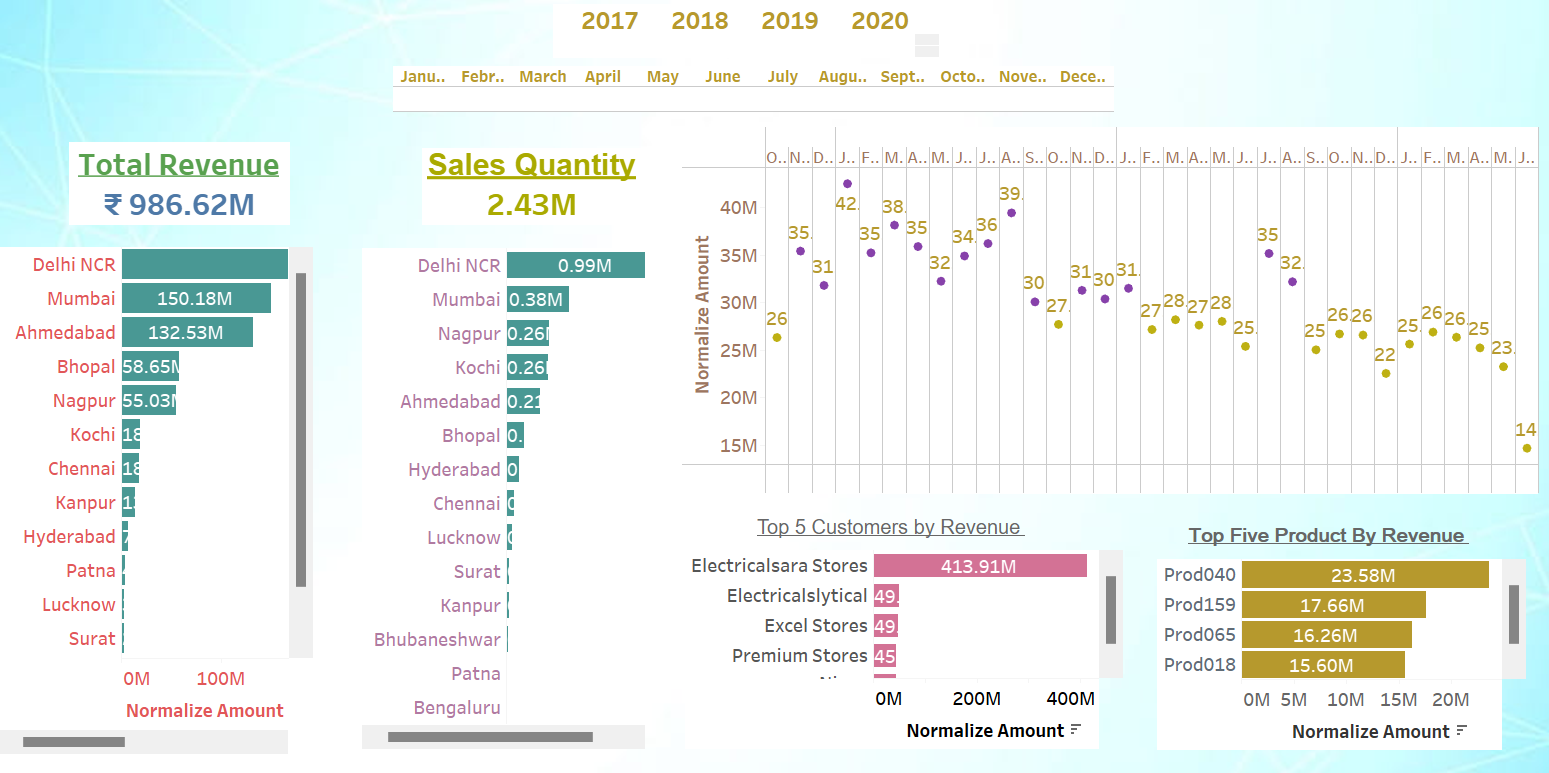

The page's visual inventory and layout, read from the dashboard file:
{"tool":"tableau","page":{"name":"Dashboard 2","canvas":[2200,1000],"ordinal":0},"visuals":[{"type":"worksheet","title":"Year","mark":"Automatic","cols":["cy_date"],"box":[900,20,516,55]},{"type":"worksheet","title":"Months","mark":"Automatic","cols":["cy_date"],"box":[753,65,759,42]},{"type":"worksheet","title":"Rev year Chart","mark":"Automatic","rows":["Calculation_279223229870252032"],"cols":["cy_date","cy_date"],"box":[1101,140,1058,353]},{"type":"worksheet","title":"Revenu","mark":"Automatic","box":[186,149,274,111]},{"type":"worksheet","title":"Sale Qty","mark":"Automatic","box":[747,156,251,83]},{"type":"worksheet","title":"R by Market","mark":"Automatic","rows":["markets_name"],"cols":["Calculation_279223229870252032"],"box":[66,244,478,685]},{"type":"worksheet","title":"Sale Qty by Market","mark":"Automatic","rows":["markets_name"],"cols":["sales_qty"],"box":[668,245,317,481]},{"type":"worksheet","title":"5 Pro by Rev","mark":"Automatic","rows":["product_code (products)"],"cols":["Calculation_279223229870252032"],"box":[1679,547,502,259]},{"type":"worksheet","title":"5 Cus. by Rev","mark":"Automatic","rows":["custmer_name"],"cols":["Calculation_279223229870252032"],"box":[1082,555,585,291]}]}

Visuals, with their boxes on the page's 2200x1000 design canvas (x1, y1, x2, y2). These are canvas units, not pixel positions in the 1549x773 screenshot, which may show the page scaled, cropped or inside an application window:
"Year" worksheet: 900/20/1416/75
"Months" worksheet: 753/65/1512/107
"Rev year Chart" worksheet: 1101/140/2159/493
"Revenu" worksheet: 186/149/460/260
"Sale Qty" worksheet: 747/156/998/239
"R by Market" worksheet: 66/244/544/929
"Sale Qty by Market" worksheet: 668/245/985/726
"5 Pro by Rev" worksheet: 1679/547/2181/806
"5 Cus. by Rev" worksheet: 1082/555/1667/846
